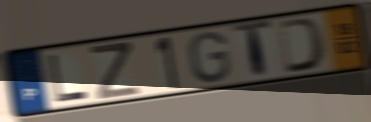1: (154, 34, 181, 91)
D: (276, 16, 329, 76)
G: (188, 30, 233, 85)
L: (46, 52, 90, 104)
T: (231, 18, 274, 81)
Z: (88, 41, 142, 102)
